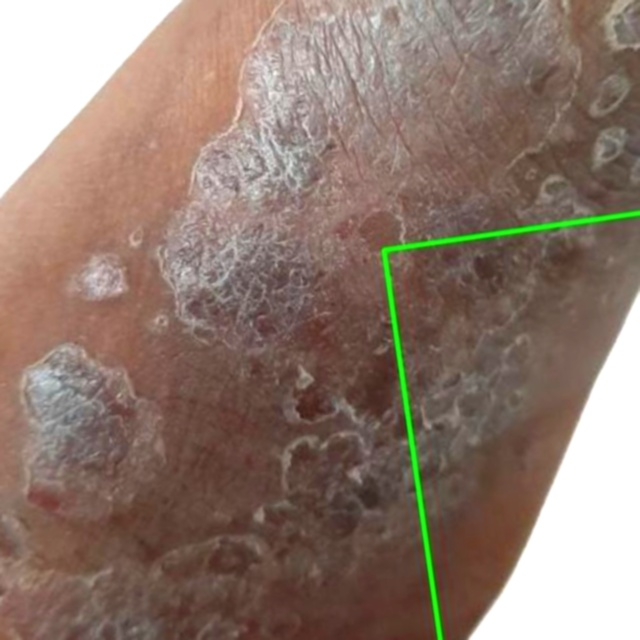Contact Dermatitis: (383, 212, 639, 639)
